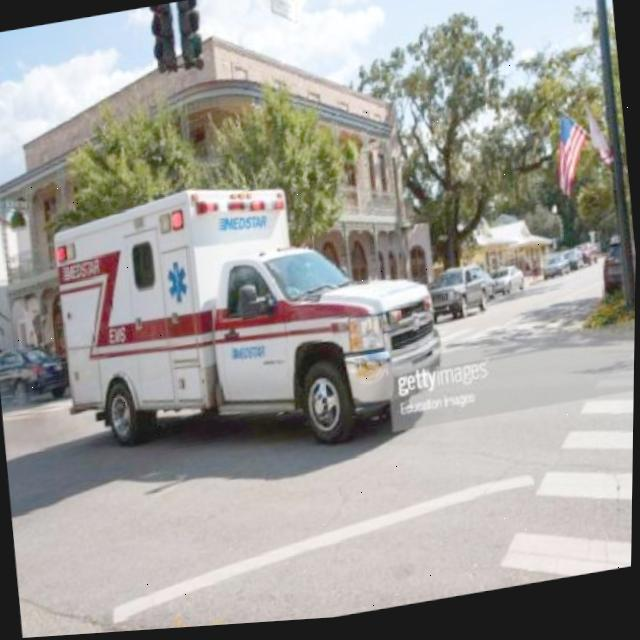emergency: (47, 151, 453, 490)
